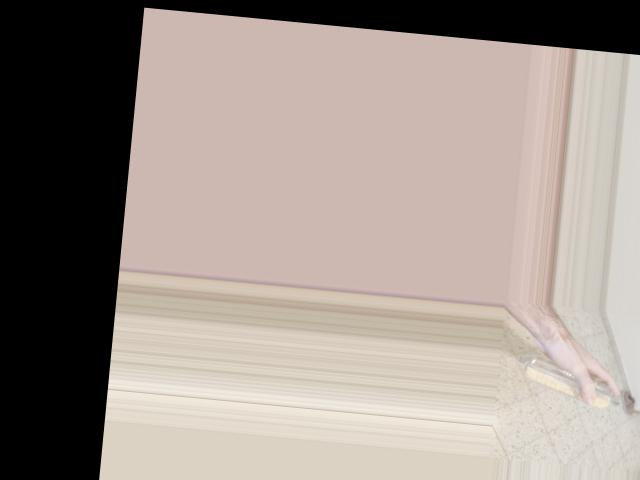cheese: (530, 333, 630, 422)
